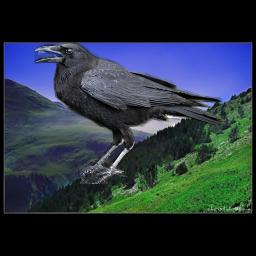Crow: (34, 42, 226, 184)
